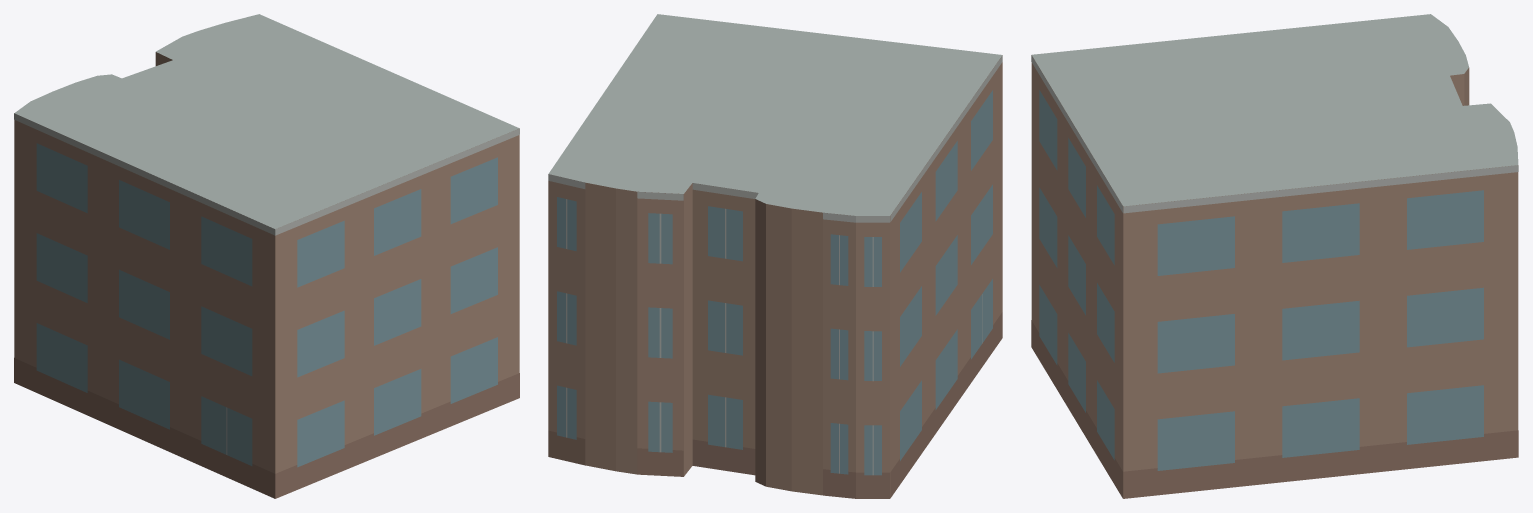
Rendered from survey-upis-32704938.glb.
3 renders of one model, left to right at view 1: azimuth 30°, elevation 25°; view 2: azimuth 150°, elevation 25°; view 3: azimuth 270°, elevation 25°, orthographic. The views are drawn at different scales.
Parts seen in each view (by area): view 1: survey-upis-32704938.tmp; view 2: survey-upis-32704938.tmp; view 3: survey-upis-32704938.tmp.
Boxes of the visible parts, x1,y1,x2,y2 form: survey-upis-32704938.tmp: (14, 14, 519, 498); survey-upis-32704938.tmp: (548, 14, 1002, 498); survey-upis-32704938.tmp: (1031, 14, 1518, 498).
Bounding box in the file's own units: 14.4 × 10.2 × 15.4.
